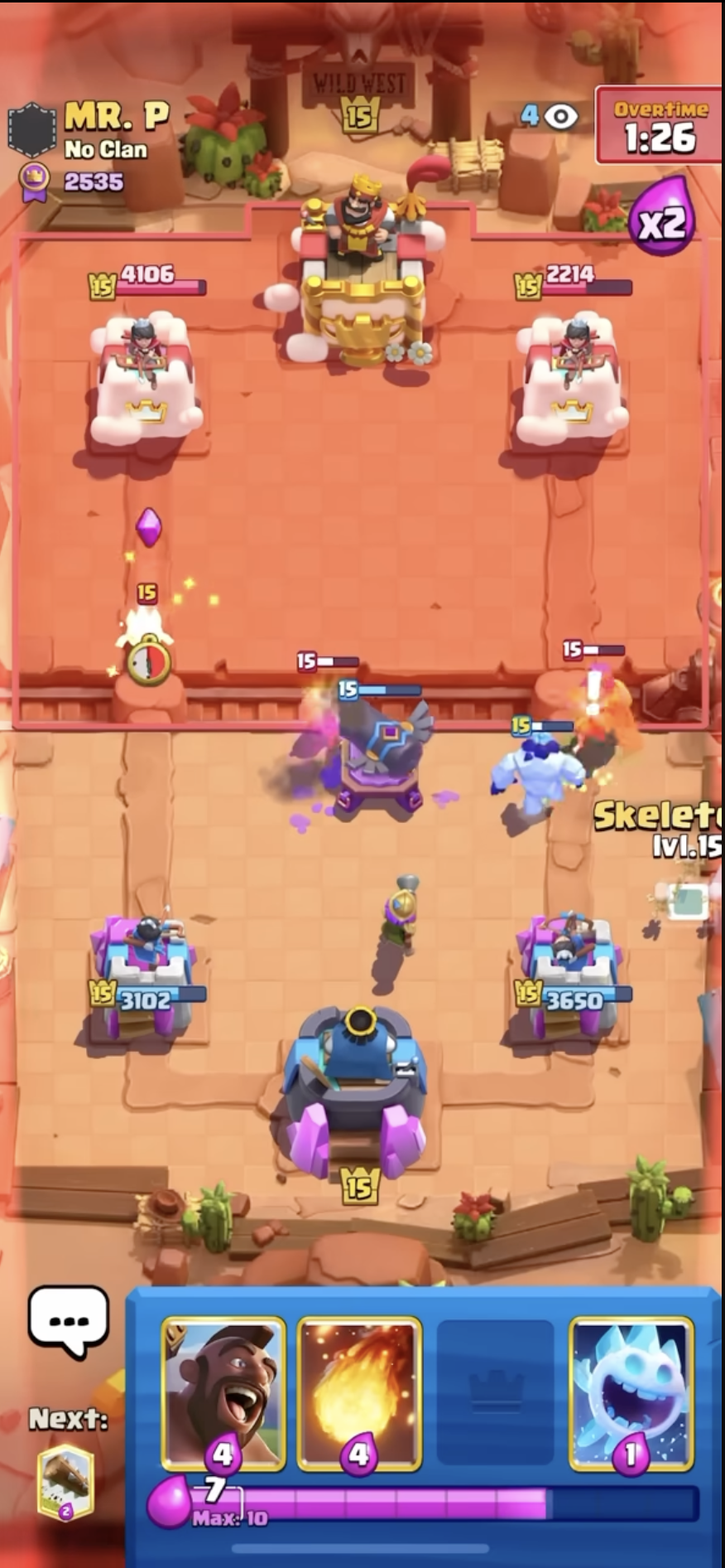evo_cannon: (326, 674, 441, 821)
ice_golem: (497, 707, 596, 843)
musketeer: (372, 859, 438, 969)
